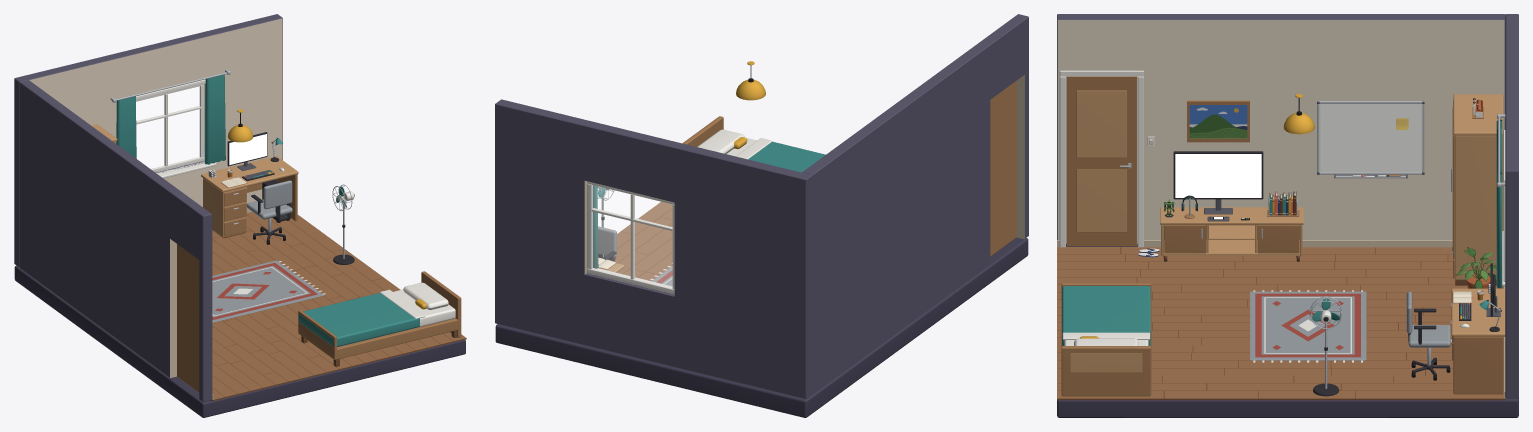
File: room.glb
The picture shows the model from 3 angles, left to right: view 1: azimuth 30°, elevation 25°; view 2: azimuth 150°, elevation 25°; view 3: azimuth 270°, elevation 25°; orthographic projection. The views are drawn at different scales.
Parts seen in each view (by area): view 1: room_wall_b, room_wall_a, room_floor, deco_bed, room_base, deco_rug, int_window_glass, zone_desk, room_door, int_window, int_window_curtain_r, deco_desk_chair (+3 smaller); view 2: room_wall_a, room_wall_b, room_base, int_window_glass, room_door, deco_bed, room_floor, int_window, deco_desk_chair, deco_ceiling_lamp; view 3: room_wall_b, room_floor, room_door, deco_bed, room_base, deco_wardrobe, deco_rug, int_whiteboard_surface, zone_tv_table, room_wall_a, zone_desk, int_tv_screen (+10 smaller).
Part boxes in pixels (x1=…): room_wall_b: x1=20, y1=80, x2=213, y2=401; room_wall_a: x1=14, y1=14, x2=282, y2=267; room_floor: x1=211, y1=212, x2=466, y2=401; deco_bed: x1=298, y1=271, x2=461, y2=366; room_base: x1=14, y1=265, x2=465, y2=417; deco_rug: x1=212, y1=260, x2=325, y2=322; int_window_glass: x1=136, y1=86, x2=199, y2=168; zone_desk: x1=201, y1=156, x2=298, y2=238; room_door: x1=177, y1=244, x2=199, y2=392; int_window: x1=110, y1=69, x2=230, y2=178; int_window_curtain_r: x1=204, y1=74, x2=225, y2=164; deco_desk_chair: x1=246, y1=180, x2=292, y2=244; room_wall_a: x1=495, y1=99, x2=812, y2=398; room_wall_b: x1=802, y1=14, x2=1028, y2=393; room_base: x1=495, y1=237, x2=1028, y2=417; int_window_glass: x1=592, y1=185, x2=672, y2=287; room_door: x1=990, y1=81, x2=1016, y2=256; deco_bed: x1=682, y1=116, x2=825, y2=172; room_floor: x1=614, y1=201, x2=672, y2=281; int_window: x1=587, y1=181, x2=674, y2=294; deco_desk_chair: x1=598, y1=226, x2=616, y2=261; deco_ceiling_lamp: x1=736, y1=61, x2=765, y2=100; room_wall_b: x1=1057, y1=14, x2=1505, y2=247; room_floor: x1=1057, y1=247, x2=1505, y2=400; room_door: x1=1066, y1=76, x2=1137, y2=246; deco_bed: x1=1061, y1=283, x2=1151, y2=396; room_base: x1=1057, y1=244, x2=1518, y2=417; deco_wardrobe: x1=1451, y1=94, x2=1503, y2=285; deco_rug: x1=1250, y1=290, x2=1366, y2=362; int_whiteboard_surface: x1=1320, y1=103, x2=1421, y2=171; zone_tv_table: x1=1160, y1=207, x2=1303, y2=261; room_wall_a: x1=1504, y1=14, x2=1518, y2=398; zone_desk: x1=1450, y1=288, x2=1505, y2=394; int_tv_screen: x1=1175, y1=154, x2=1261, y2=197.
Size of what is drawn, in the model's own units: 4.15 by 3.05 by 5.15.
18 materials, 1 textured.
